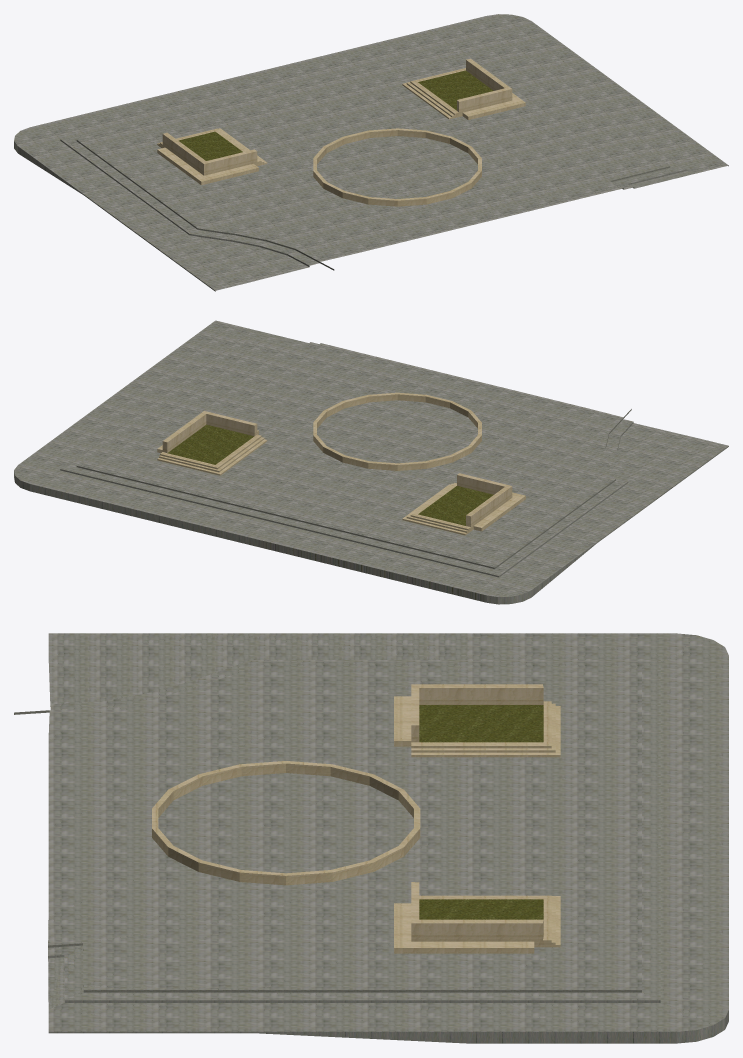
The model's file is pershingsq1_lan.obj.
3 views of the same model, one above another, from view 1: azimuth 30°, elevation 25°; view 2: azimuth 150°, elevation 25°; view 3: azimuth 270°, elevation 25° (orthographic). The views are drawn at different scales.
Parts seen in each view (by area): view 1: pershingsq1_lan; view 2: pershingsq1_lan; view 3: pershingsq1_lan.
Part boxes in pixels (x1=…): pershingsq1_lan: x1=14, y1=14, x2=728, y2=291; pershingsq1_lan: x1=14, y1=320, x2=728, y2=604; pershingsq1_lan: x1=14, y1=633, x2=728, y2=1043.
Bounding box in the file's own units: 90.01 × 4.28 × 68.27.
